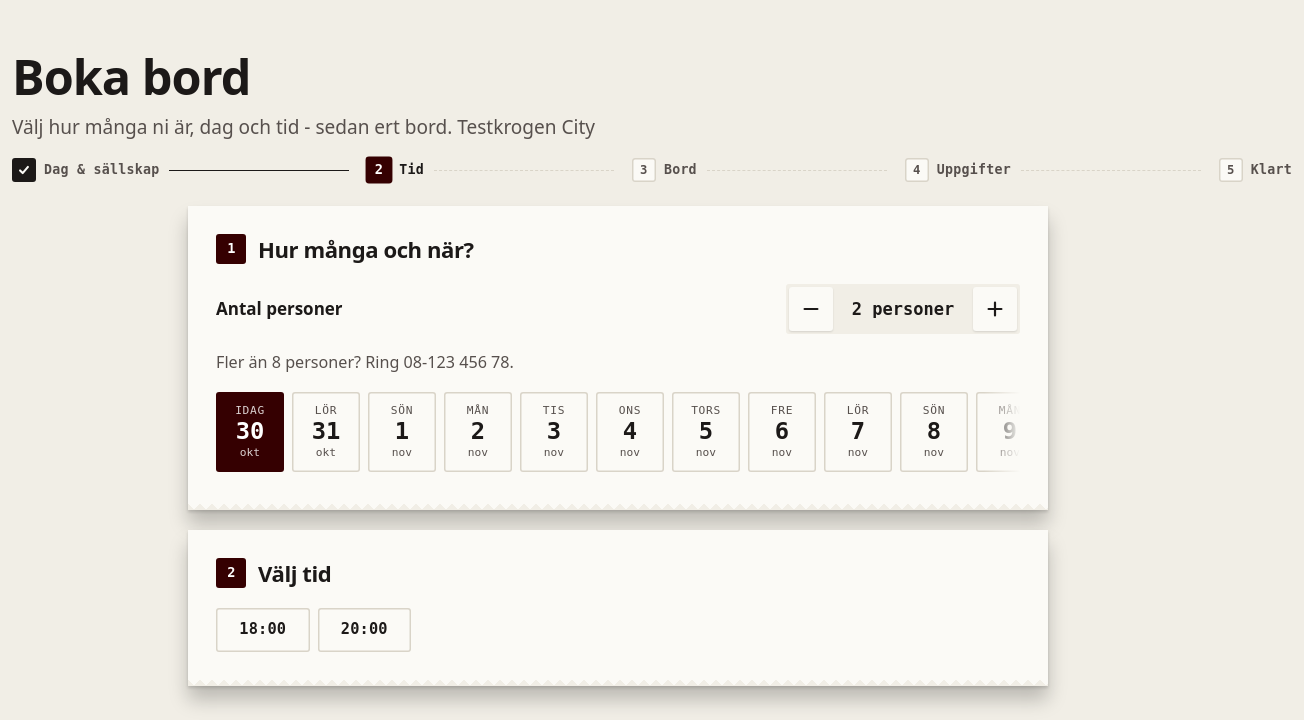
Test: BokaBordPage › offers only the tables that fit the party, and asks the server for that party
This screenshot has width=1304, height=720.
Select "3 personer" in the dropdown labelled "Antal personer" at (903, 309), box [839,287,967,331]
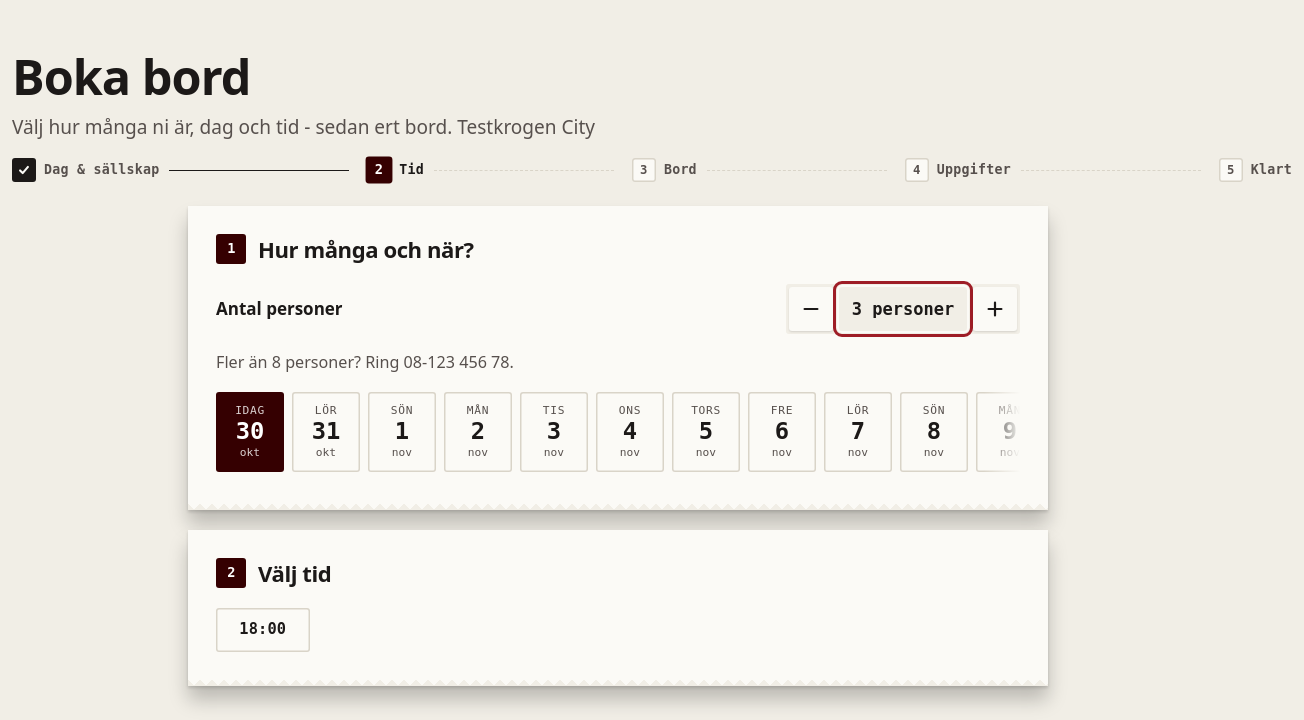
Click the button "18:00" at (263, 630), box [216,608,310,652]
(page scrolled)
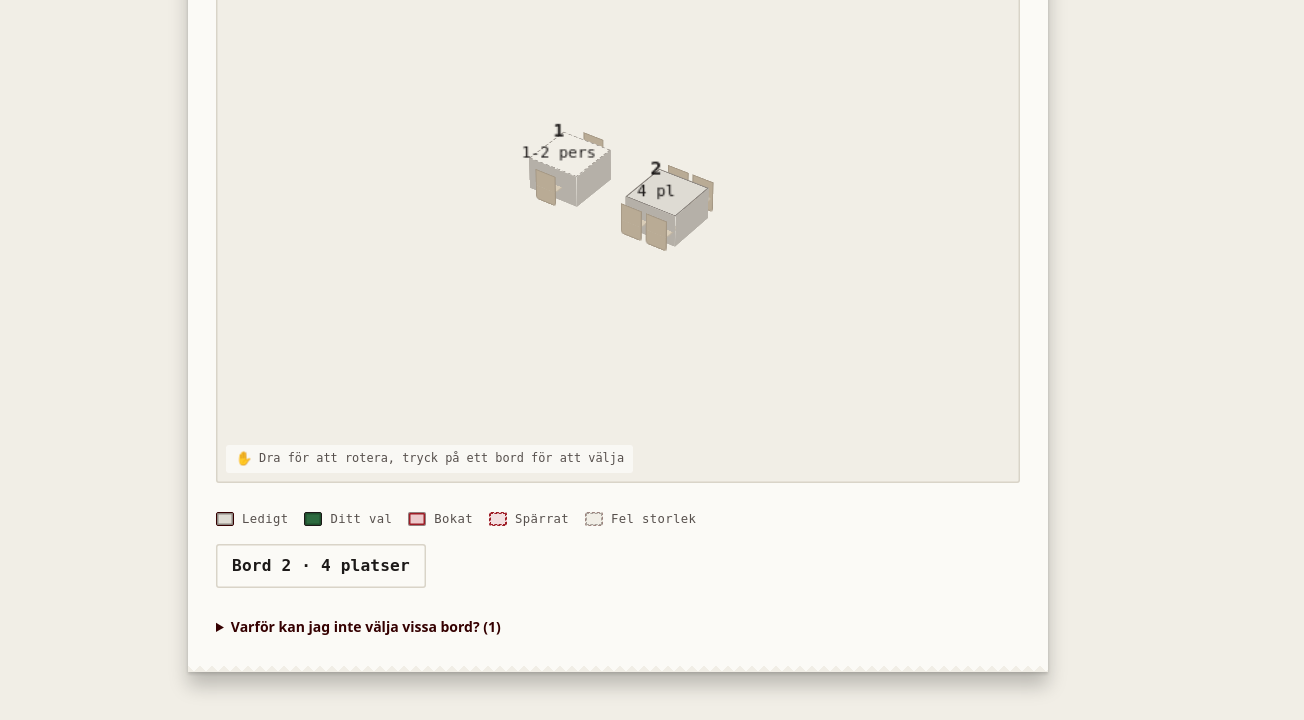
Expected: the button "Bord 2 · 4 platser" is shown, [216,544,426,588]
